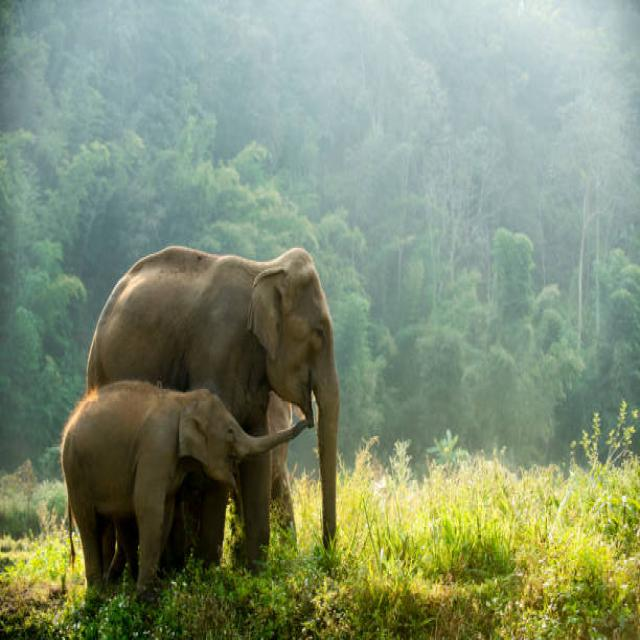Elephant: (94, 245, 363, 546), (54, 377, 311, 590)
